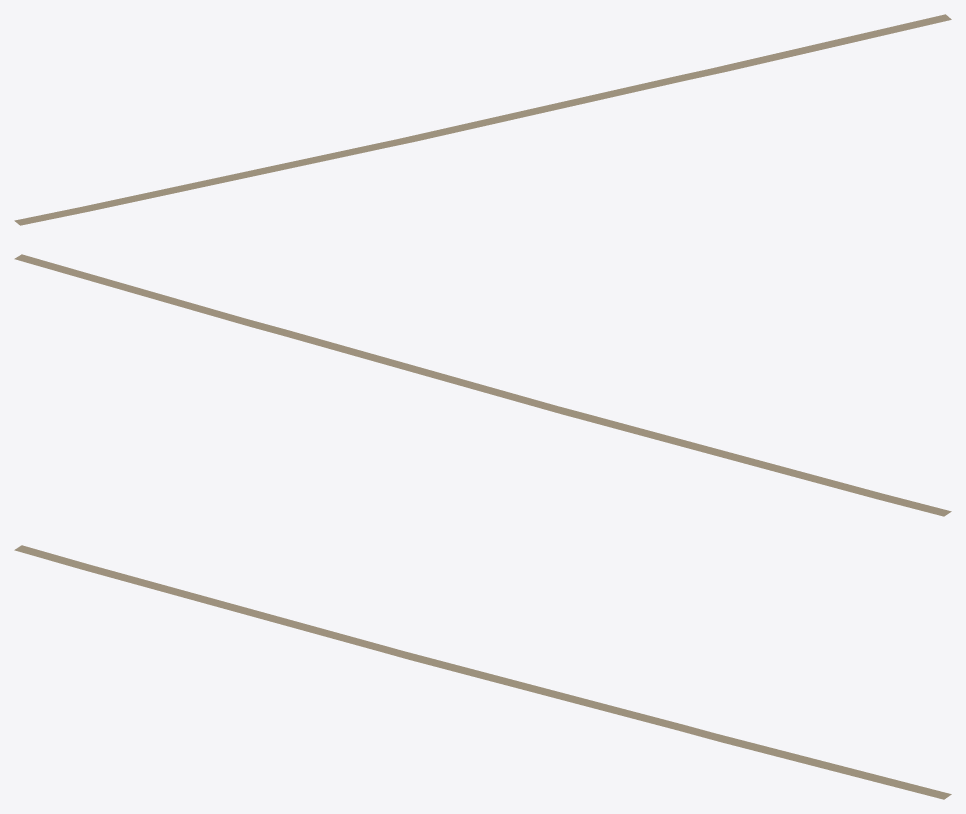
File: farm_17_20_track.glb
The picture shows the model from 3 angles, top to bottom: view 1: azimuth 30°, elevation 25°; view 2: azimuth 150°, elevation 25°; view 3: azimuth 330°, elevation 25°; orthographic projection. The views are drawn at different scales.
Visible parts, largest first — view 1: geometry_0; view 2: geometry_0; view 3: geometry_0.
Boxes of the visible parts, <box> form: geometry_0: <box>14,14,951,225</box>; geometry_0: <box>14,254,951,516</box>; geometry_0: <box>14,545,951,799</box>.
Bounding box in the file's own units: 251 × 1.54 × 15.55.
